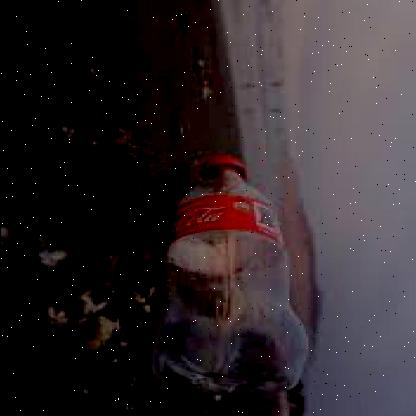Plastic Bottle: (151, 156, 307, 393)
